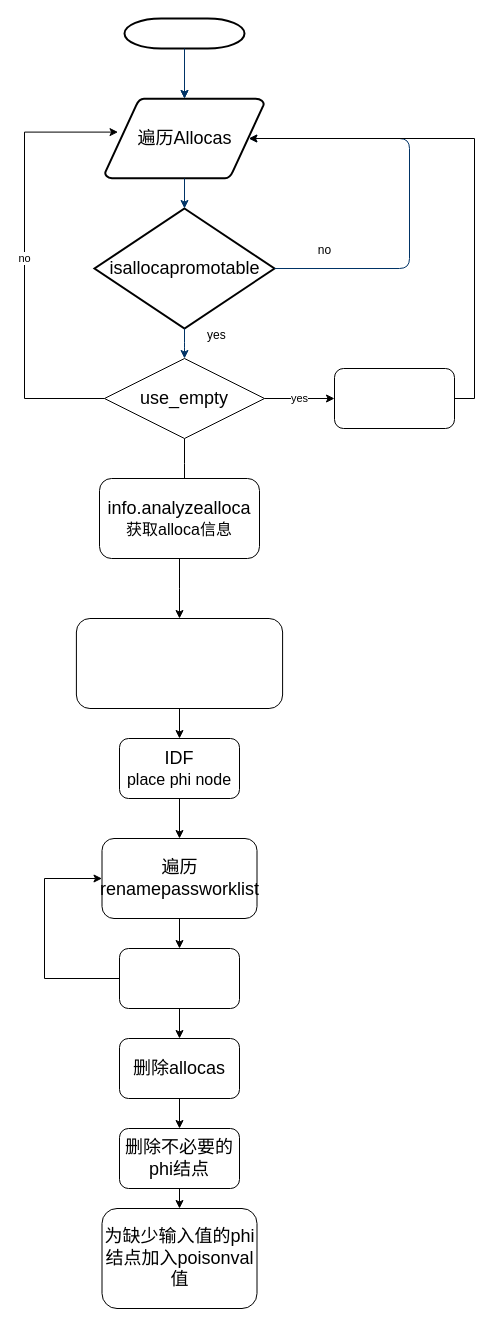
Image size: 500x1326. Some labels were removed from this diagram. Each missing label, with the box of its shape:
promotesingleblockalloca rewritesinglestorealloca: (75, 618, 283, 708)
renamepass: (118, 948, 240, 1008)
start: (123, 17, 245, 49)
删除: (334, 368, 454, 428)
